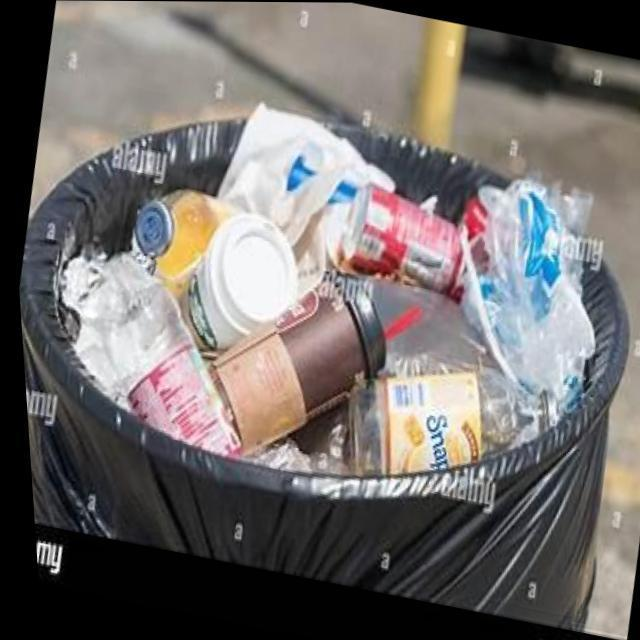Disposable: (206, 277, 379, 454), (178, 212, 294, 349)
Garbage: (58, 103, 589, 473)
Glass_bottle: (343, 359, 545, 472), (131, 189, 231, 296)
Plastic: (283, 154, 313, 191), (325, 181, 355, 204)
Plastic_Bag: (474, 180, 590, 409)
Plastic_bottle: (70, 256, 235, 456), (368, 279, 481, 375)
can: (323, 181, 460, 298)
